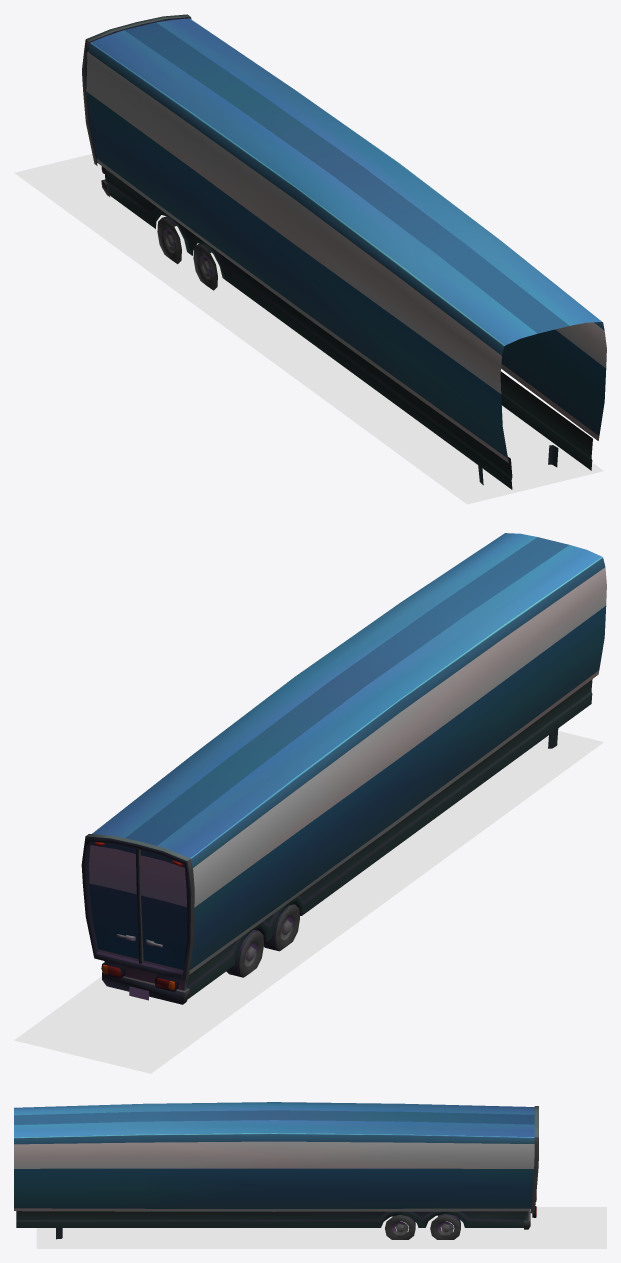
File: City_Double8_TruckTrailor01.fbx
The picture shows the model from 3 angles, top to bottom: view 1: azimuth 30°, elevation 25°; view 2: azimuth 150°, elevation 25°; view 3: azimuth 270°, elevation 25°; orthographic projection. The views are drawn at different scales.
Parts seen in each view (by area): view 1: city_double8_truckTrailor01, truckTrailor01Shadow; view 2: city_double8_truckTrailor01, truckTrailor01Shadow; view 3: city_double8_truckTrailor01, truckTrailor01Shadow.
Boxes of the visible parts, box(x1,y1,x2,y2) form: city_double8_truckTrailor01: box(82, 14, 606, 489); truckTrailor01Shadow: box(14, 154, 603, 504); city_double8_truckTrailor01: box(81, 533, 606, 1004); truckTrailor01Shadow: box(14, 731, 603, 1073); city_double8_truckTrailor01: box(14, 1102, 538, 1239); truckTrailor01Shadow: box(36, 1207, 606, 1248).
Bounding box in the file's own units: 148 × 189 × 880.
